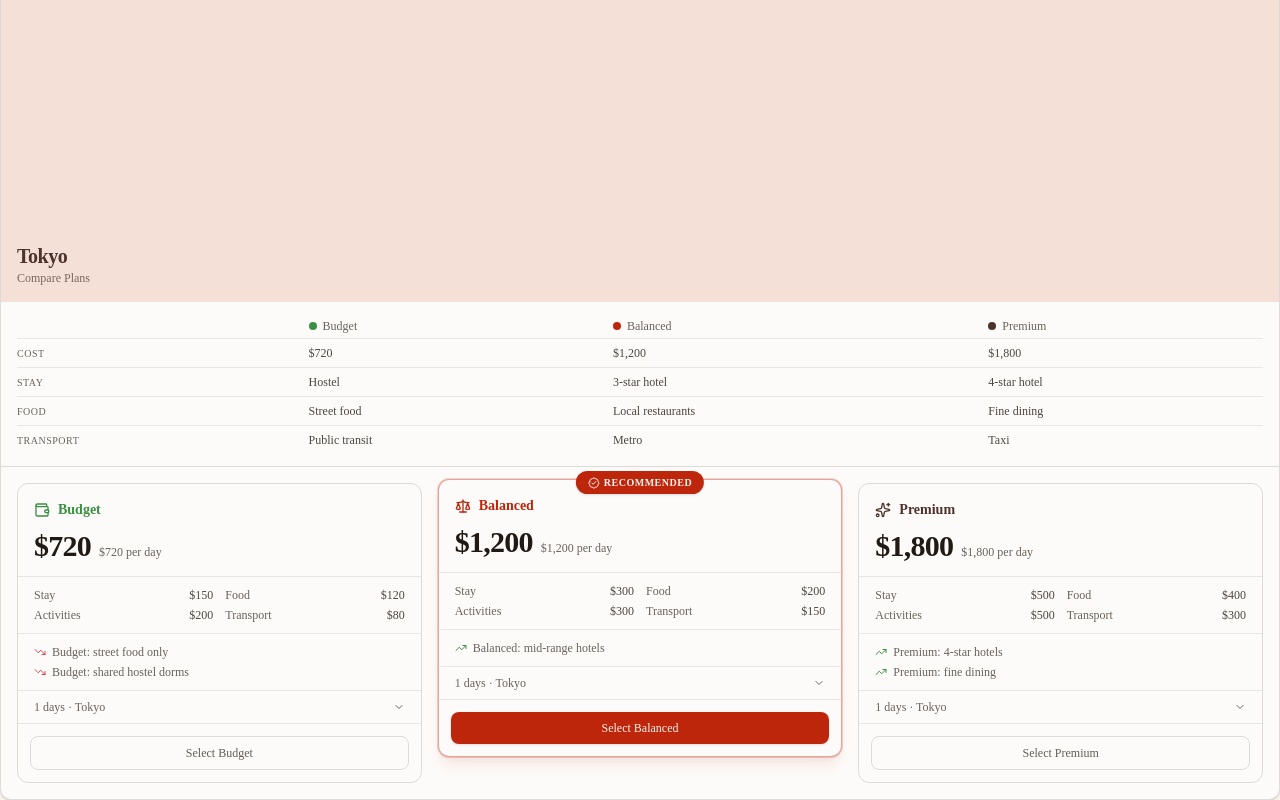
ComparisonView › expands day details when clicked
(page scrolled)
Click the button "1 days · Tokyo" below "Budget: shared hostel dorms". click: (70, 707)
box: [18,691,421,723]
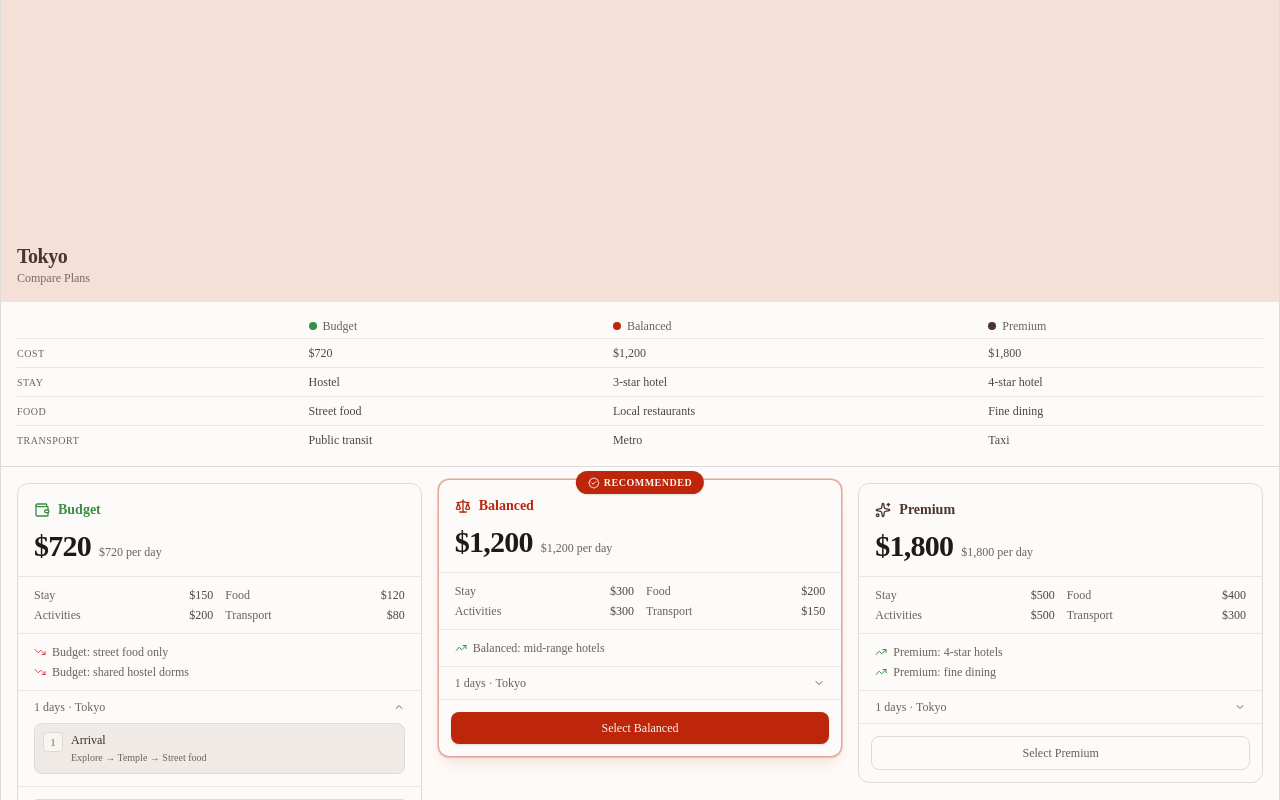
expect the text "Arrival" is shown: met, box [71,733,106,747]
